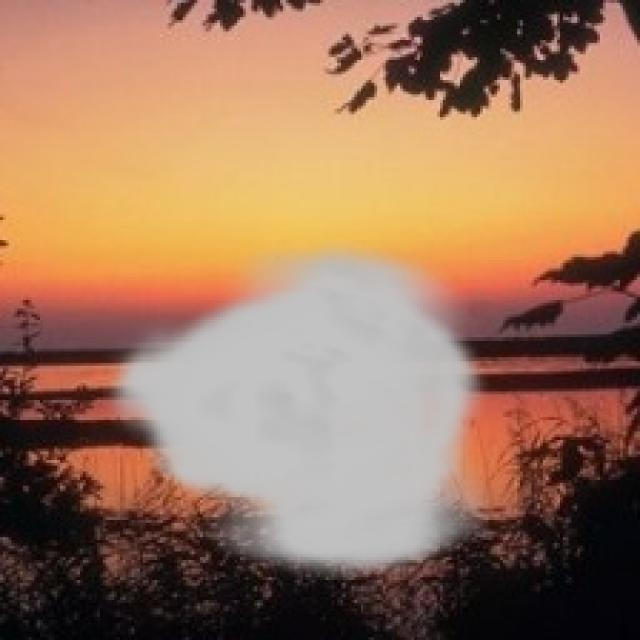smoke: (103, 234, 488, 580)
